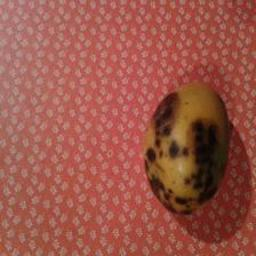Mango Rotten: (138, 75, 244, 216)
